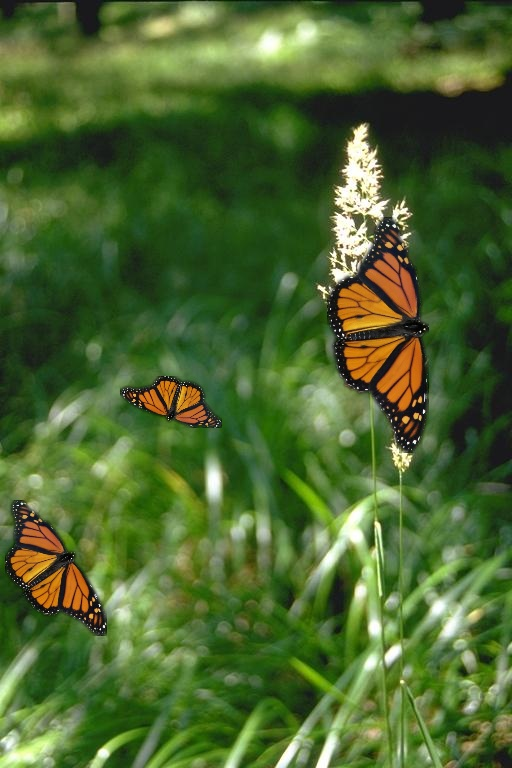danaus_plexippus: (327, 217, 429, 453), (5, 500, 107, 636), (120, 376, 222, 428)
